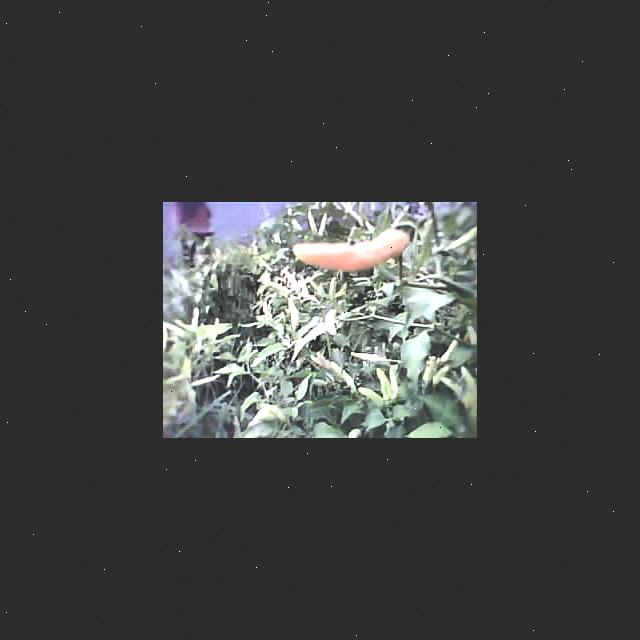Cabai: (295, 228, 416, 271)
